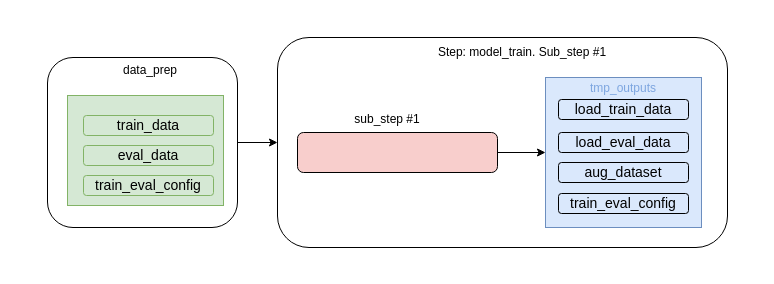
Some shapes in this 774 by 284 pixel diagram are drawn without their labels. Each missing label, with the box of its shape:
cache_datasets.jpynb: (296, 132, 498, 172)
inputs: (66, 94, 224, 206)
